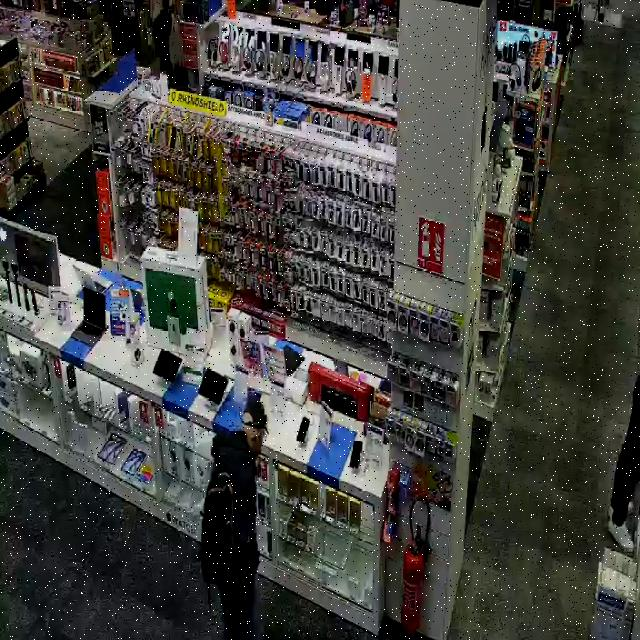bags: (201, 473, 234, 592)
hands: (255, 457, 264, 477)
person: (212, 395, 267, 639), (609, 377, 639, 552)
